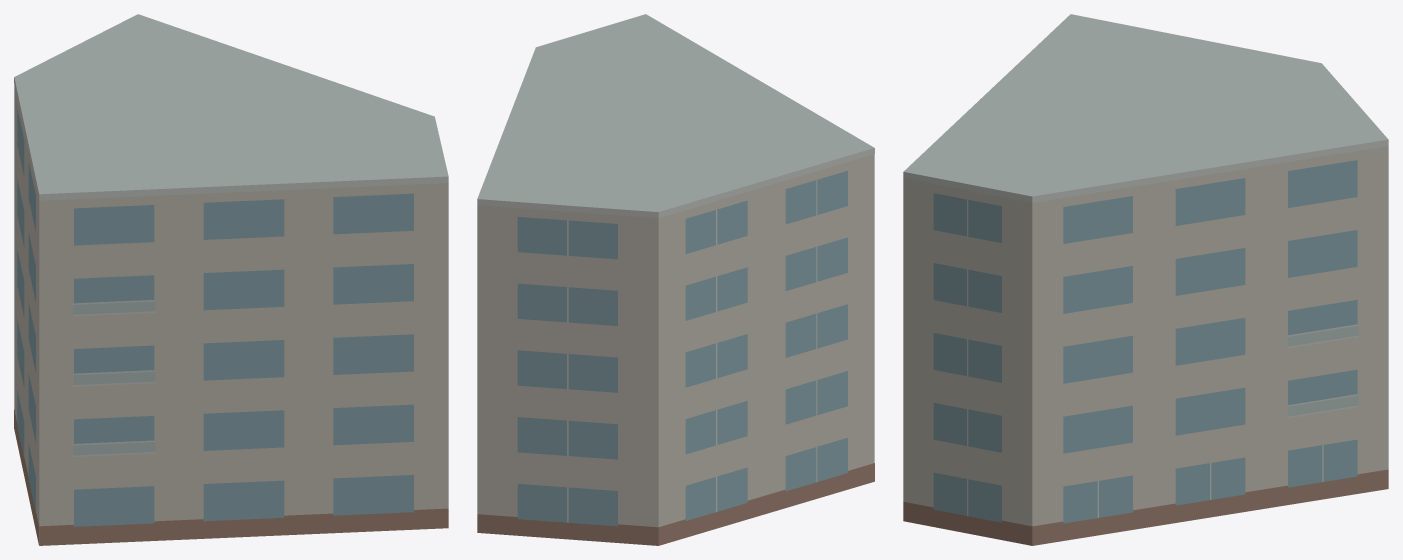
The model's file is survey-upis-32549013.glb.
3 views of the same model, side by side, from view 1: azimuth 30°, elevation 25°; view 2: azimuth 150°, elevation 25°; view 3: azimuth 270°, elevation 25° (orthographic). The views are drawn at different scales.
Parts seen in each view (by area): view 1: survey-upis-32549013.tmp; view 2: survey-upis-32549013.tmp; view 3: survey-upis-32549013.tmp.
Part boxes in pixels (left/top/right/bottom): survey-upis-32549013.tmp: left=14, top=14, right=448, bottom=545; survey-upis-32549013.tmp: left=477, top=14, right=874, bottom=545; survey-upis-32549013.tmp: left=903, top=14, right=1388, bottom=545.
Bounding box in the file's own units: 14.89 × 13.28 × 16.73.
